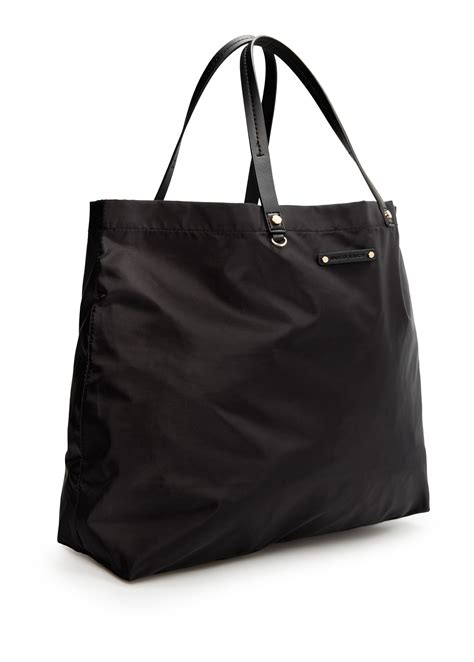nylon: (58, 197, 431, 584)
